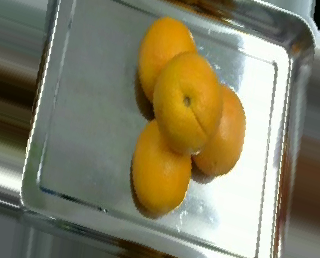Orange: (152, 51, 222, 154), (131, 119, 193, 214), (137, 15, 198, 111), (192, 84, 246, 178)
